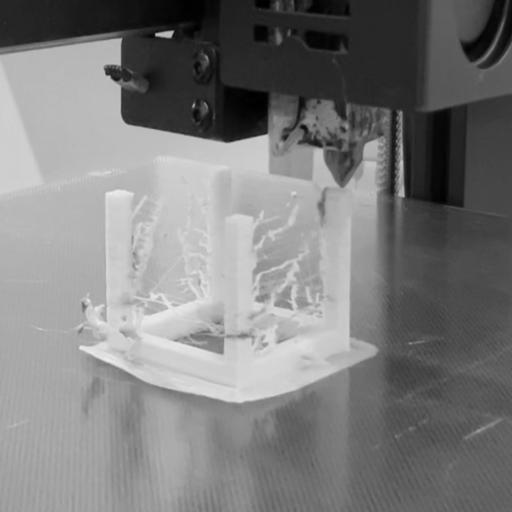spaghetti_and_stringing: (252, 212, 330, 350), (138, 182, 208, 310), (136, 314, 225, 346)
warp: (77, 344, 161, 393), (183, 382, 303, 409)
